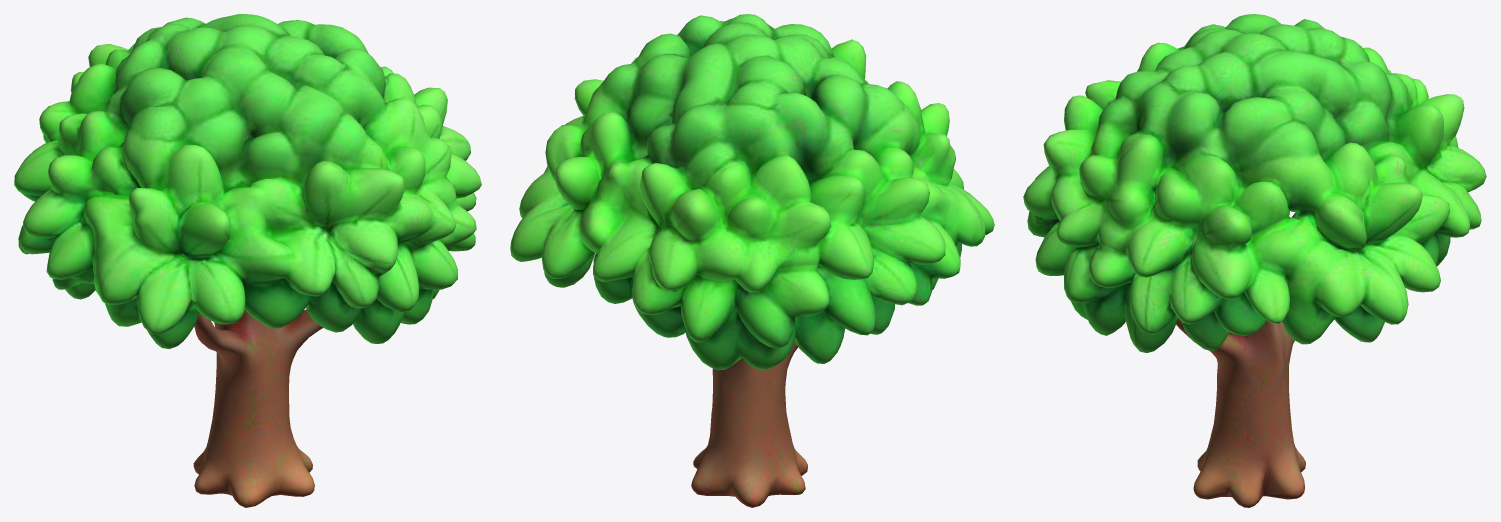
The picture shows the model from 3 angles, left to right: view 1: azimuth 30°, elevation 25°; view 2: azimuth 150°, elevation 25°; view 3: azimuth 270°, elevation 25°; orthographic projection. The views are drawn at different scales.
Size of the model in its own units: 1.82 by 1.91 by 1.79.
1 material, 1 textured.
